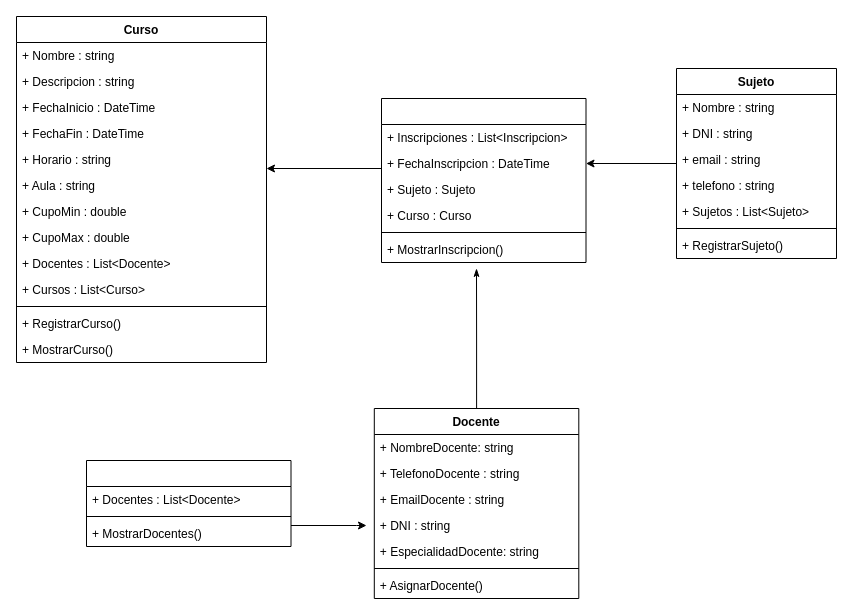
This 853x615 diagram has some shape labels left out. Here are the shapes that lost their labels. From the top down, the box of each, then its label:
(380, 98, 586, 262): Inscripción
(86, 460, 291, 546): RegistroDocente
